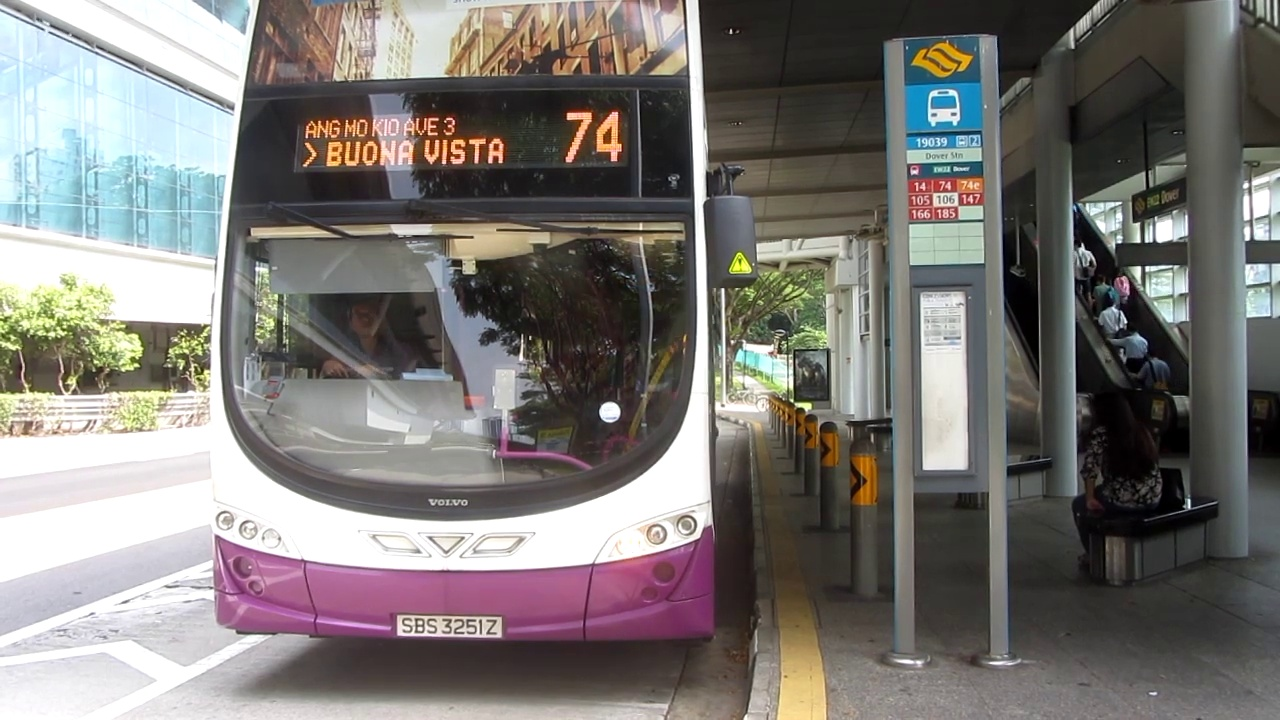bus panel: (291, 108, 630, 175)
